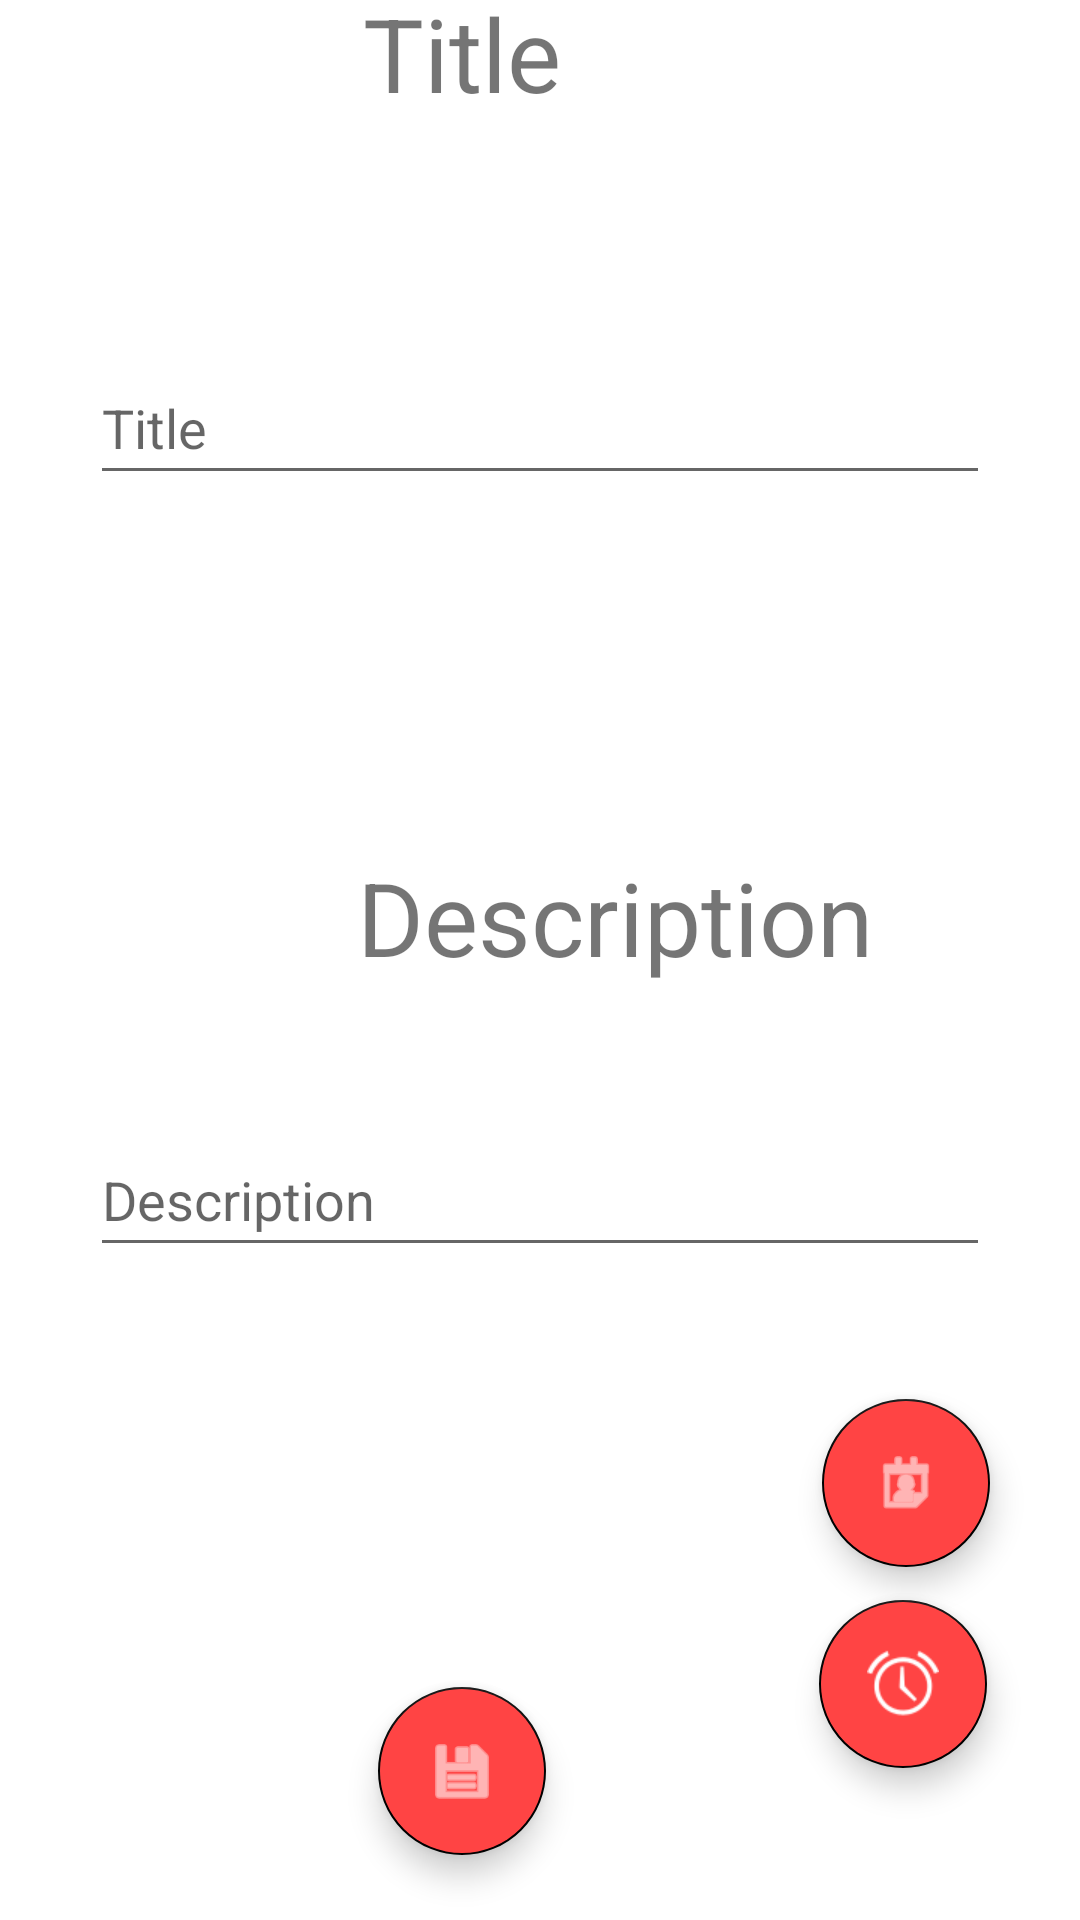

Named icons in this screenshot (1080*1920) and their centers, point (x, y):
calendar: point (906, 1483)
lock idle alarm: point (903, 1684)
save: point (462, 1771)
